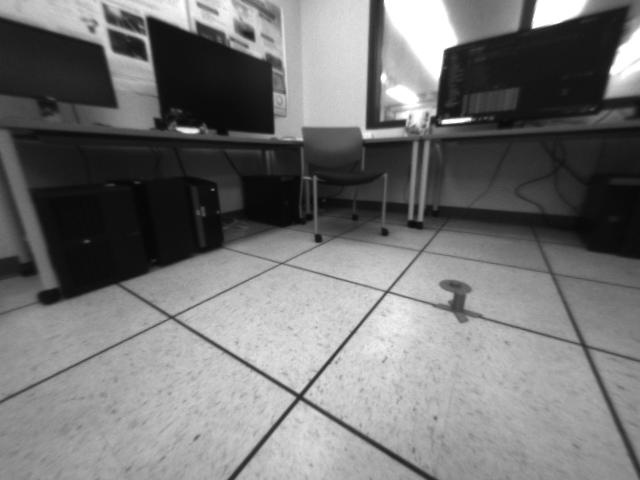X: (432, 290, 484, 324)
